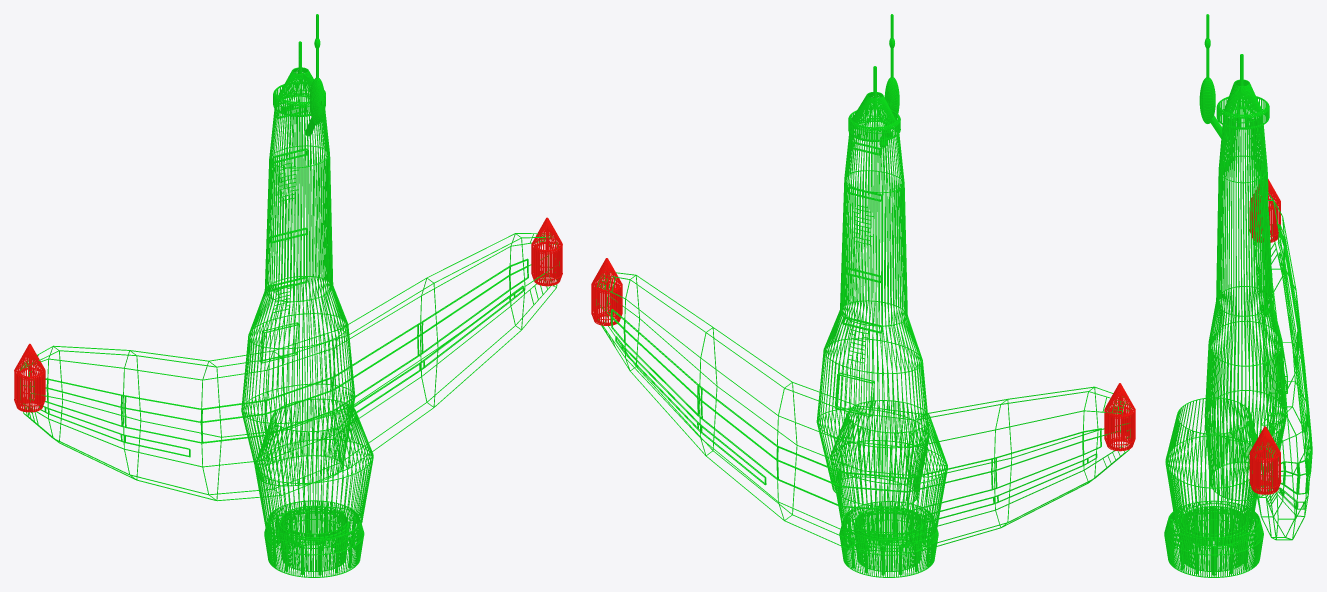
Rendered from fleet-battleship-highlight-wingtip-directional-thrusters.glb.
The picture shows the model from 3 angles, left to right: view 1: azimuth 30°, elevation 25°; view 2: azimuth 150°, elevation 25°; view 3: azimuth 270°, elevation 25°; orthographic projection.
Parts seen in each view (by area): view 1: chassis technical wire, rear-thruster technical wire, wingtip-directional-thrusters technical wire, antenna-and-field-sensor technical wire; view 2: chassis technical wire, rear-thruster technical wire, wingtip-directional-thrusters technical wire, antenna-and-field-sensor technical wire; view 3: chassis technical wire, rear-thruster technical wire, wingtip-directional-thrusters technical wire, antenna-and-field-sensor technical wire.
Boxes of the visible parts, x1,y1,x2,y2 form: chassis technical wire: [20, 67, 559, 542]; rear-thruster technical wire: [264, 500, 364, 577]; wingtip-directional-thrusters technical wire: [14, 217, 562, 412]; antenna-and-field-sensor technical wire: [298, 14, 324, 136]; chassis technical wire: [596, 92, 1130, 552]; rear-thruster technical wire: [839, 501, 938, 577]; wingtip-directional-thrusters technical wire: [591, 258, 1135, 451]; antenna-and-field-sensor technical wire: [873, 14, 899, 147]; chassis technical wire: [1165, 79, 1312, 546]; rear-thruster technical wire: [1164, 500, 1263, 577]; wingtip-directional-thrusters technical wire: [1249, 179, 1281, 494]; antenna-and-field-sensor technical wire: [1199, 14, 1243, 141].
Size of the model in its own units: 4.95 by 4.75 by 1.17.
